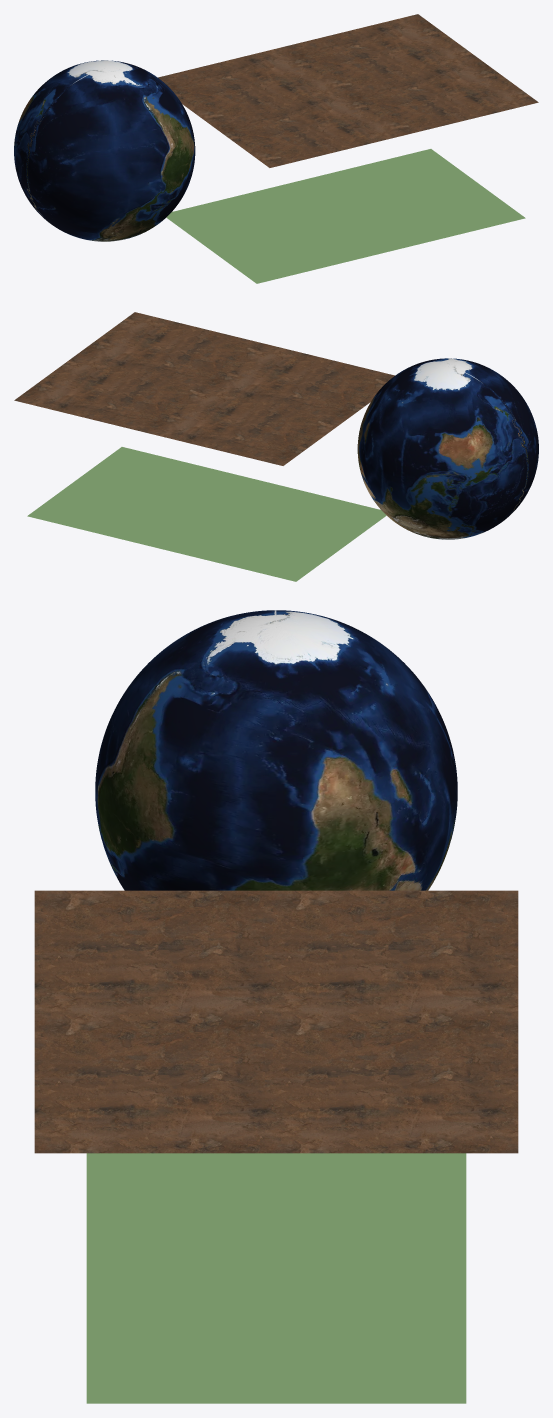
File: map-projections.glb
The picture shows the model from 3 angles, top to bottom: view 1: azimuth 30°, elevation 25°; view 2: azimuth 150°, elevation 25°; view 3: azimuth 270°, elevation 25°; orthographic projection. The views are drawn at different scales.
Visible parts, largest first — view 1: Proj_Mercator, Proj_Globe, Proj_EqualArea; view 2: Proj_Mercator, Proj_Globe, Proj_EqualArea; view 3: Proj_Mercator, Proj_EqualArea, Proj_Globe.
Boxes of the visible parts, box(x1,y1,x2,y2) form: Proj_Mercator: box(158, 14, 538, 167); Proj_Globe: box(14, 60, 195, 241); Proj_EqualArea: box(166, 149, 525, 283); Proj_Mercator: box(14, 312, 394, 465); Proj_Globe: box(357, 358, 538, 539); Proj_EqualArea: box(27, 447, 386, 581); Proj_Mercator: box(34, 890, 518, 1153); Proj_EqualArea: box(86, 1153, 466, 1403); Proj_Globe: box(95, 610, 457, 890).
Bounding box in the file's own units: 6.05 × 2.63 × 2.8.
Materials: 3 (2 with a texture image).
